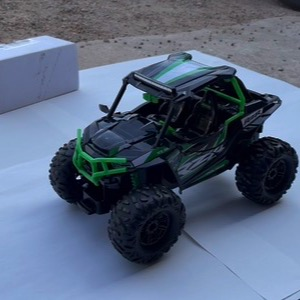polaris: (48, 51, 299, 267)
